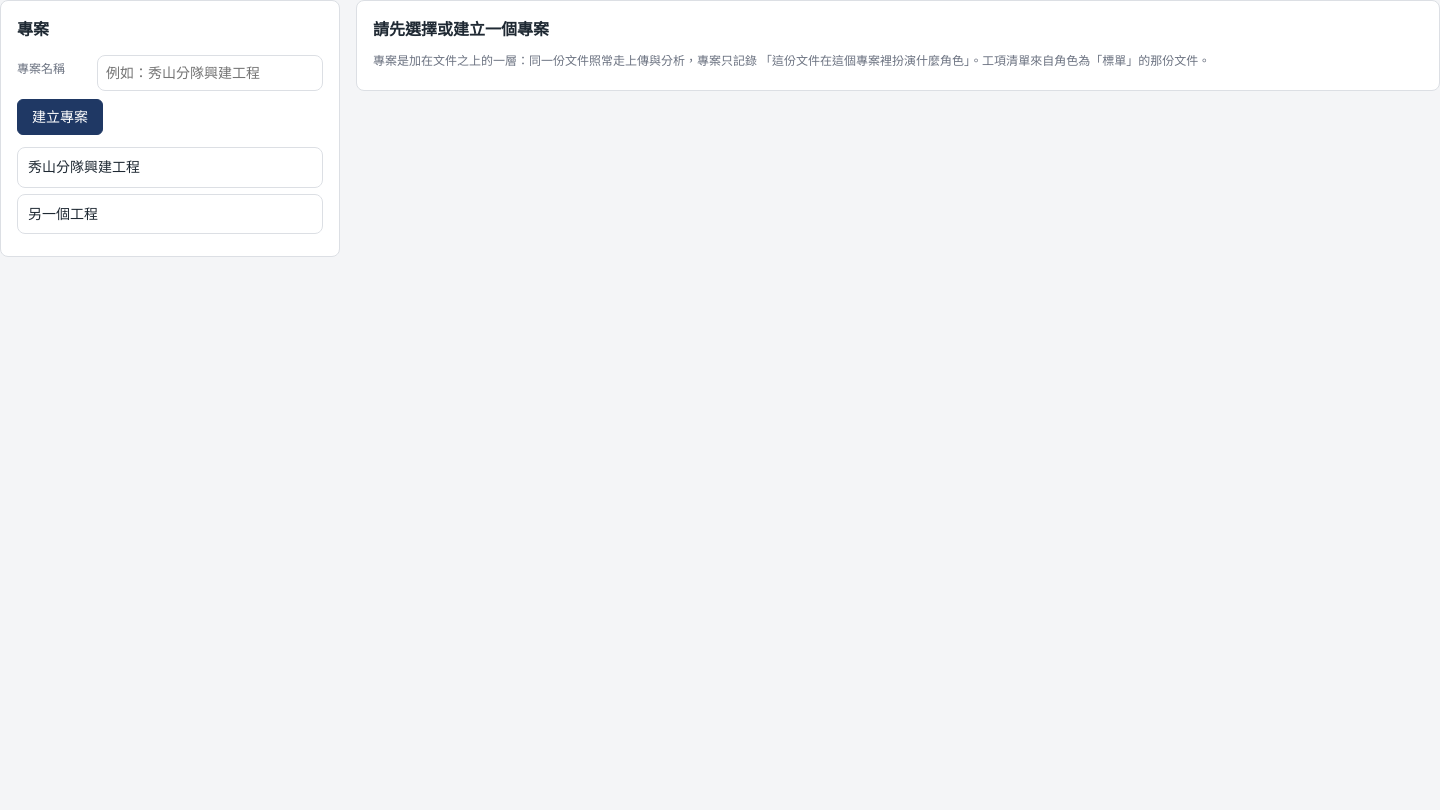
ProjectWorkItemsPage › 選定專案後一併載入檢核表，而且不會自己重建
Click the list item "秀山分隊興建工程" at point(170, 168), box [17,147,323,188]
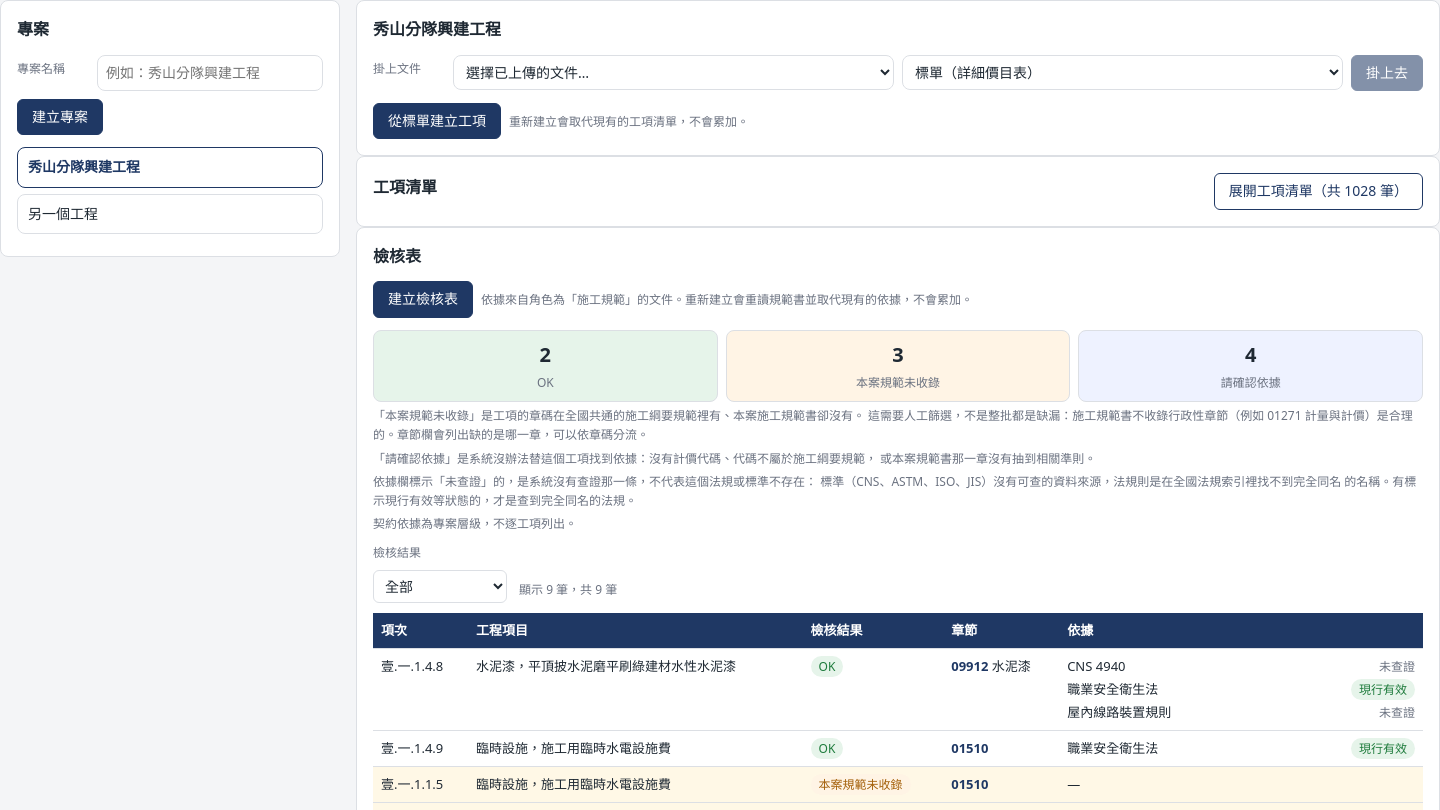
Now the text "壹.一.1.4.8" is shown, box [373,649,468,731]
Now the text "壹.一.1.1.5" is shown, box [373,767,468,803]
Now the text "未查證" in the row of "CNS 4940" is shown, box [1379,658,1415,675]
